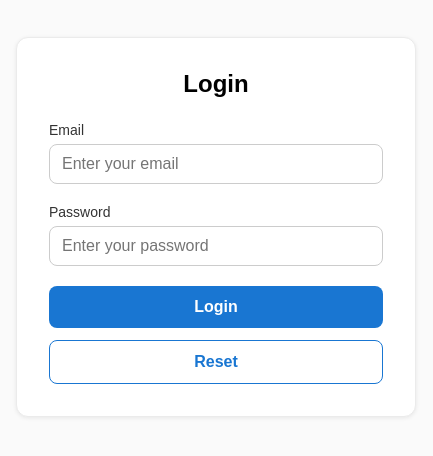
it: Login Page › shows both required errors when submitting an empty form
The width and height of the screenshot is (433, 456).
Step 1. Click the button "Login" → (216, 307), box [49, 286, 383, 328]
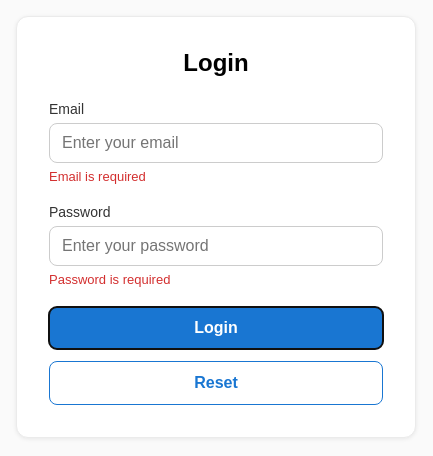
expect the text "Email is required" is shown: met, box [49, 169, 146, 184]
expect the text "Password is required" is shown: met, box [49, 272, 170, 287]
